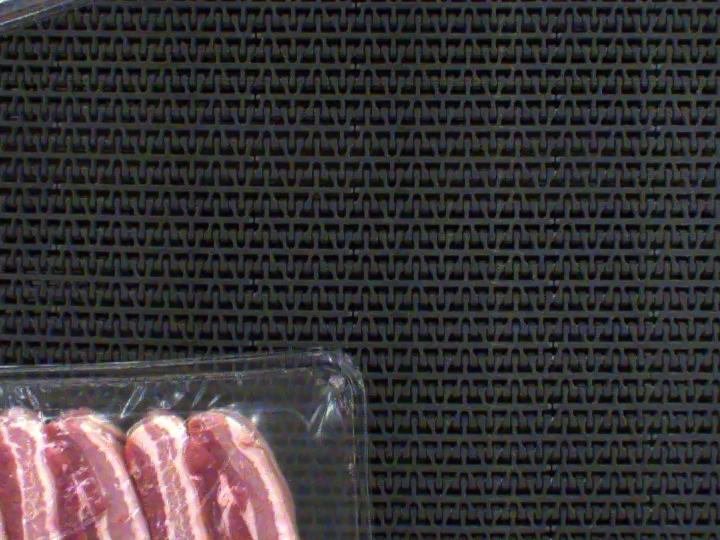unsealed: (0, 371, 341, 540)
